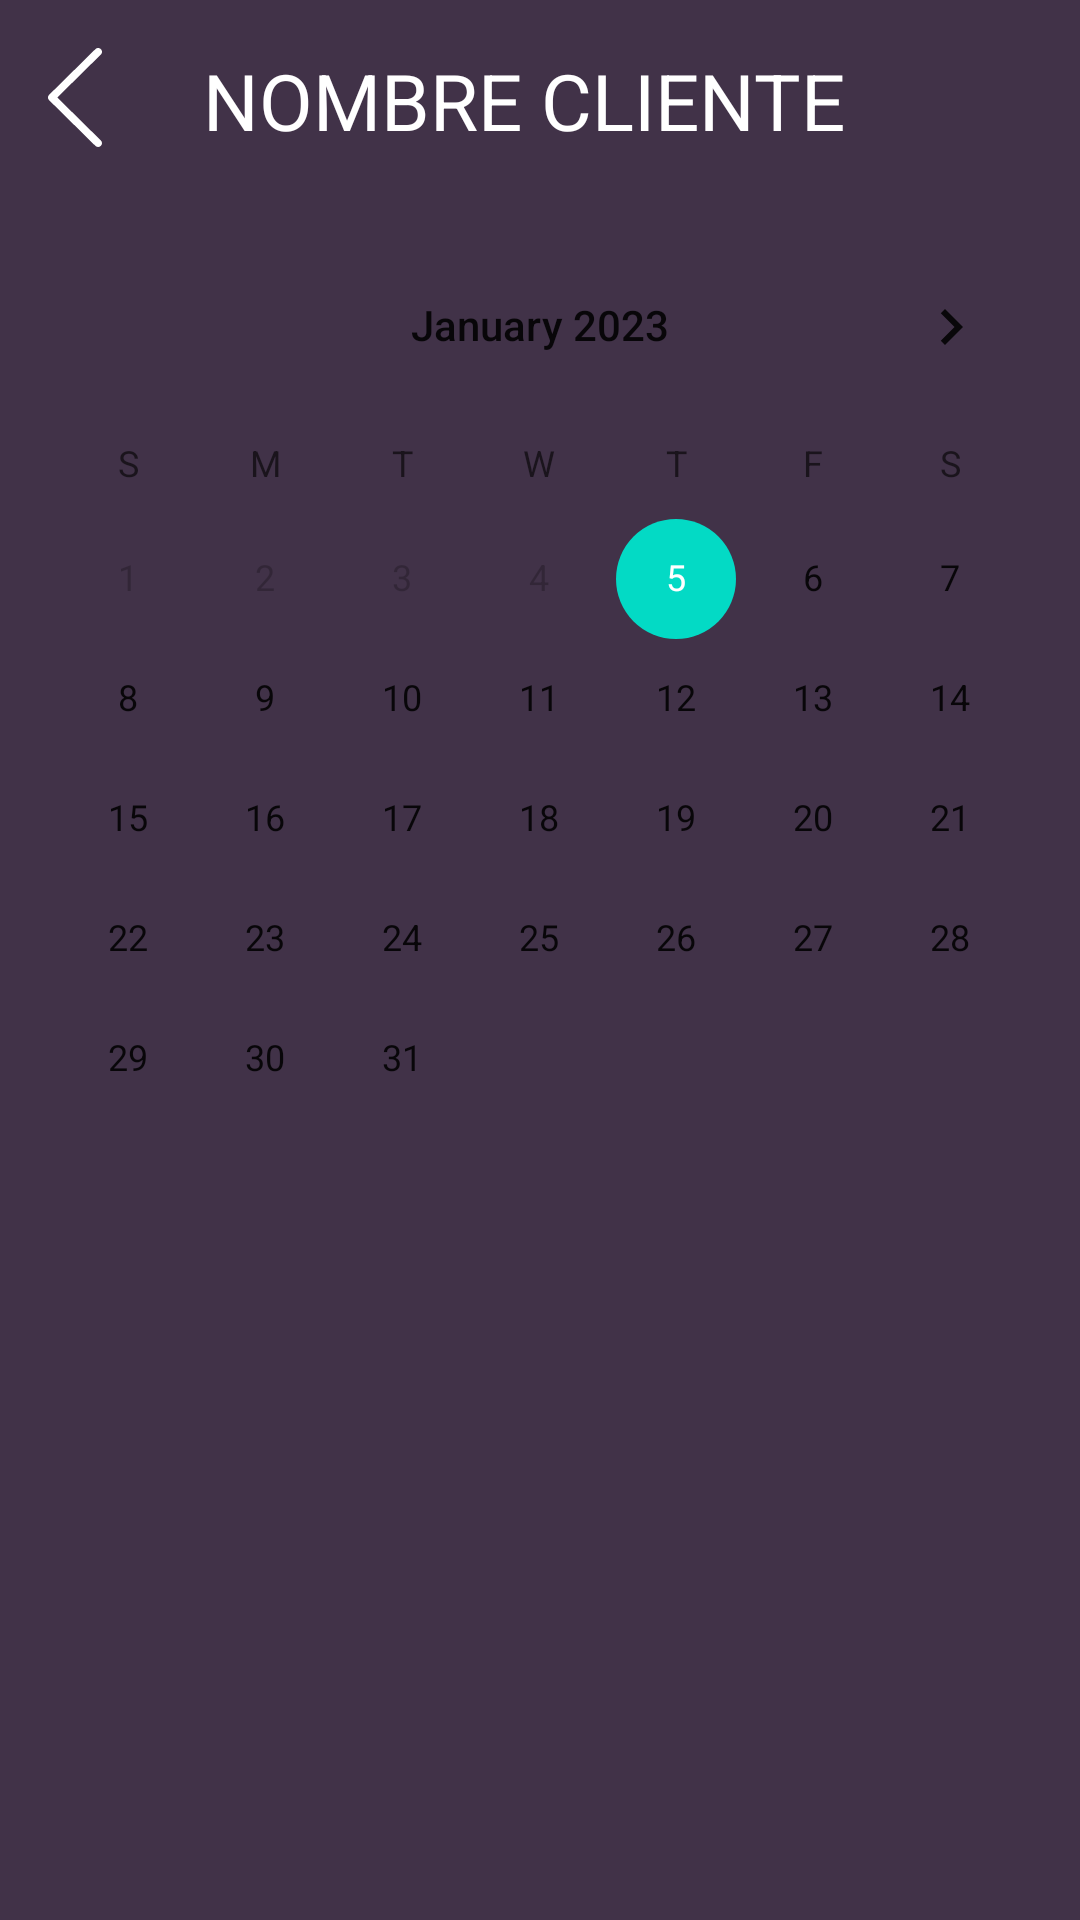

Point at icon controls on the screen. Image size 1080px x 1920px, points as [x,y].
back: [75,97]
